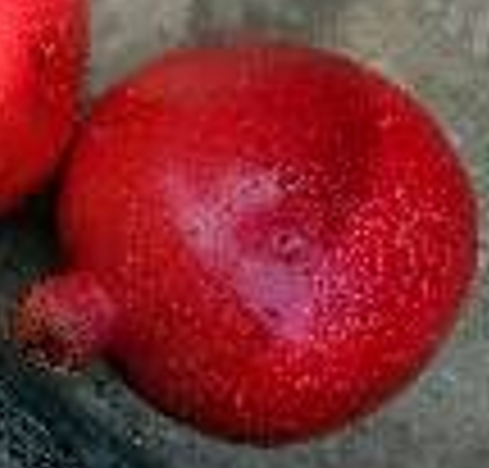pomegranate_A: (17, 41, 478, 448)
